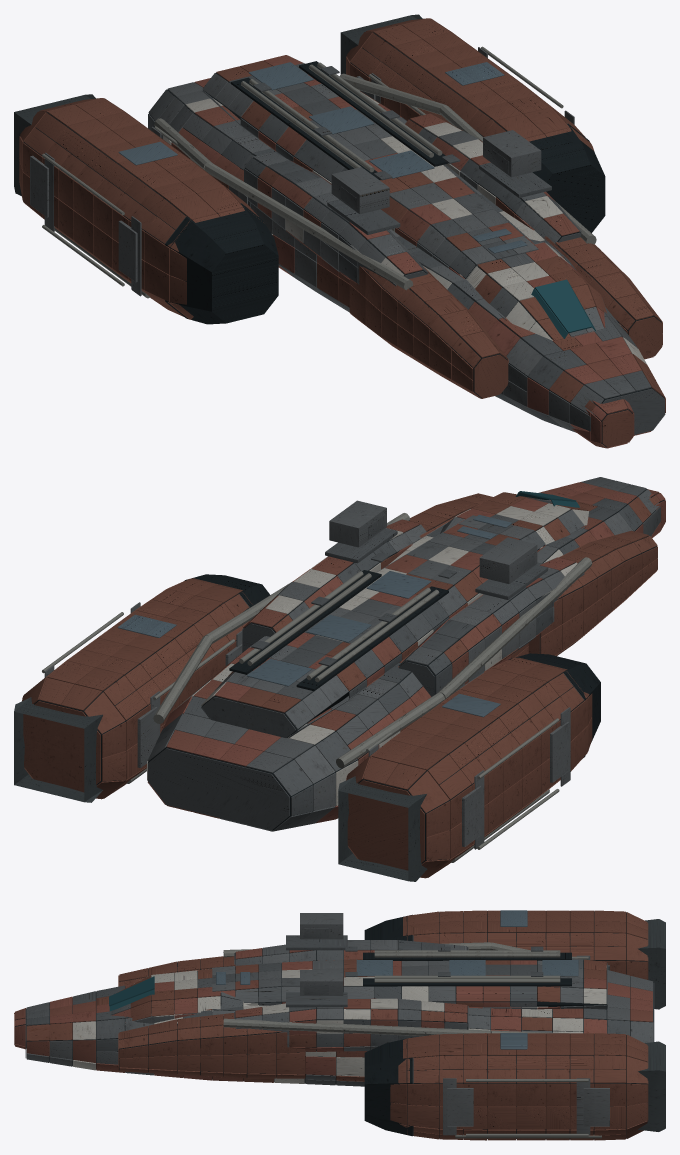
The model's file is model-outline.glb.
The picture shows the model from 3 angles, top to bottom: view 1: azimuth 30°, elevation 25°; view 2: azimuth 150°, elevation 25°; view 3: azimuth 270°, elevation 25°; orthographic projection. The views are drawn at different scales.
Visible parts, largest first — view 1: salvage-red-0, armoured-drive-cap, armour-0, armour-2, armour-3, machined-alloy, salvage-red-2, armour-1, salvage-red-1, pale-steel-0, blue-grey-1, recess-black (+5 smaller); view 2: salvage-red-0, armour-0, armour-2, armour-3, machined-alloy, dark-structure, salvage-red-1, salvage-red-2, armour-1, blue-grey-1, pale-steel-0, recess-black (+5 smaller); view 3: salvage-red-0, armour-3, salvage-red-2, machined-alloy, armour-2, armour-1, armour-0, pale-steel-0, salvage-red-1, armoured-drive-cap, dark-structure, blue-grey-1 (+7 smaller).
Boxes of the visible parts, left/top/right/bottom form: salvage-red-0: left=19, top=18, right=665, bottom=447; armoured-drive-cap: left=165, top=123, right=605, bottom=324; armour-0: left=148, top=66, right=664, bottom=434; armour-2: left=168, top=63, right=665, bottom=430; armour-3: left=30, top=47, right=604, bottom=432; machined-alloy: left=42, top=46, right=596, bottom=298; salvage-red-2: left=194, top=55, right=651, bottom=448; armour-1: left=148, top=75, right=637, bottom=423; salvage-red-1: left=171, top=105, right=665, bottom=444; pale-steel-0: left=163, top=55, right=647, bottom=396; blue-grey-1: left=118, top=62, right=527, bottom=253; recess-black: left=231, top=61, right=448, bottom=179; salvage-red-0: left=22, top=482, right=661, bottom=878; armour-0: left=148, top=477, right=660, bottom=831; armour-2: left=147, top=489, right=659, bottom=831; armour-3: left=44, top=498, right=651, bottom=849; machined-alloy: left=42, top=513, right=592, bottom=862; dark-structure: left=14, top=593, right=584, bottom=881; salvage-red-1: left=166, top=487, right=659, bottom=765; salvage-red-2: left=147, top=482, right=665, bottom=823; armour-1: left=184, top=480, right=652, bottom=795; blue-grey-1: left=117, top=514, right=511, bottom=717; pale-steel-0: left=147, top=490, right=588, bottom=818; recess-black: left=229, top=570, right=448, bottom=691; salvage-red-0: left=14, top=910, right=648, bottom=1140; armour-3: left=49, top=940, right=609, bottom=1135; salvage-red-2: left=14, top=948, right=652, bottom=1080; machined-alloy: left=223, top=942, right=606, bottom=1138; armour-2: left=26, top=913, right=653, bottom=1075; armour-1: left=26, top=928, right=653, bottom=1086; armour-0: left=25, top=935, right=654, bottom=1075; pale-steel-0: left=73, top=969, right=606, bottom=1083; salvage-red-1: left=15, top=950, right=652, bottom=1081; armoured-drive-cap: left=364, top=914, right=412, bottom=1136; dark-structure: left=412, top=919, right=665, bottom=1135; blue-grey-1: left=216, top=910, right=578, bottom=1049.
Size of the model in its own units: 33.82 by 11.54 by 56.19.
13 materials, 12 textured.
